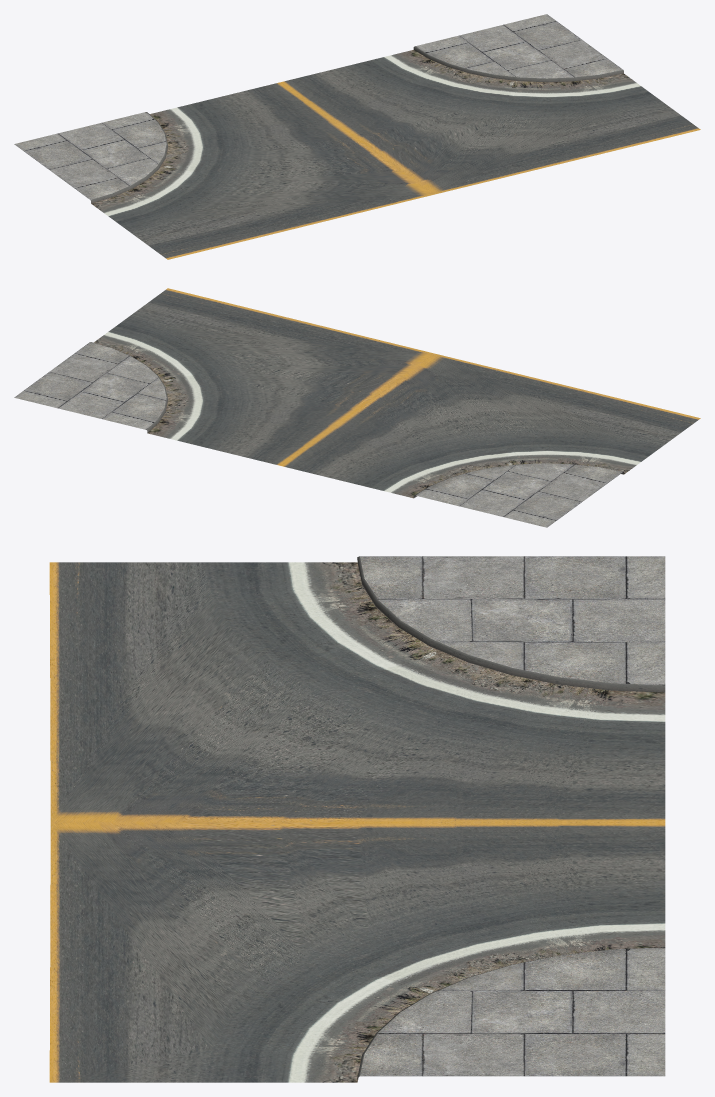
The model's file is CurveEspecial.FBX.
The picture shows the model from 3 angles, top to bottom: view 1: azimuth 30°, elevation 25°; view 2: azimuth 150°, elevation 25°; view 3: azimuth 270°, elevation 25°; orthographic projection. The views are drawn at different scales.
Parts seen in each view (by area): view 1: Plane049; view 2: Plane049; view 3: Plane049.
Part boxes in pixels (bbox=[...]): Plane049: bbox=[14, 14, 700, 259]; Plane049: bbox=[14, 288, 700, 527]; Plane049: bbox=[49, 556, 665, 1082].
Size of the model in its own units: 1230 by 6.93 by 615.
